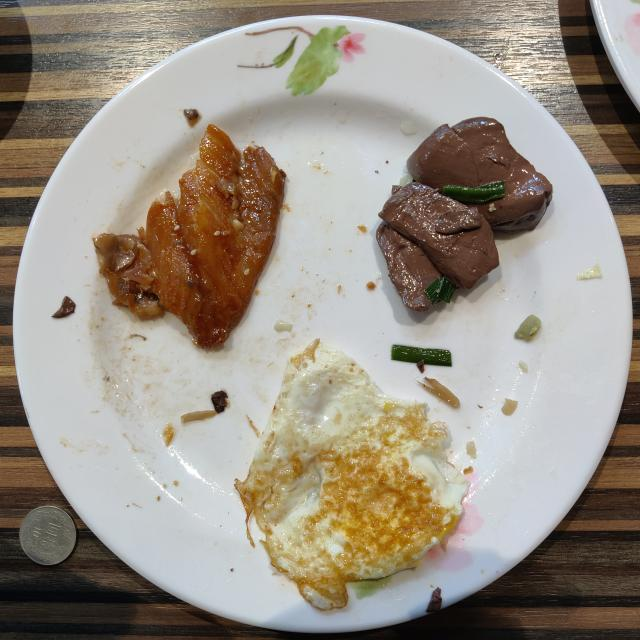Kabayaki sea bream fillet: (94, 125, 285, 348)
coin: (19, 506, 76, 565)
pig blood curd: (376, 118, 552, 311)
